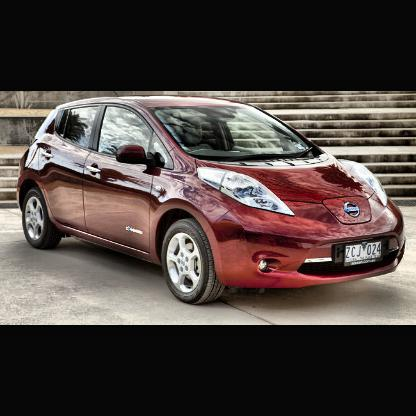Nissan Leaf Hatchback 2012: (16, 93, 411, 307)
